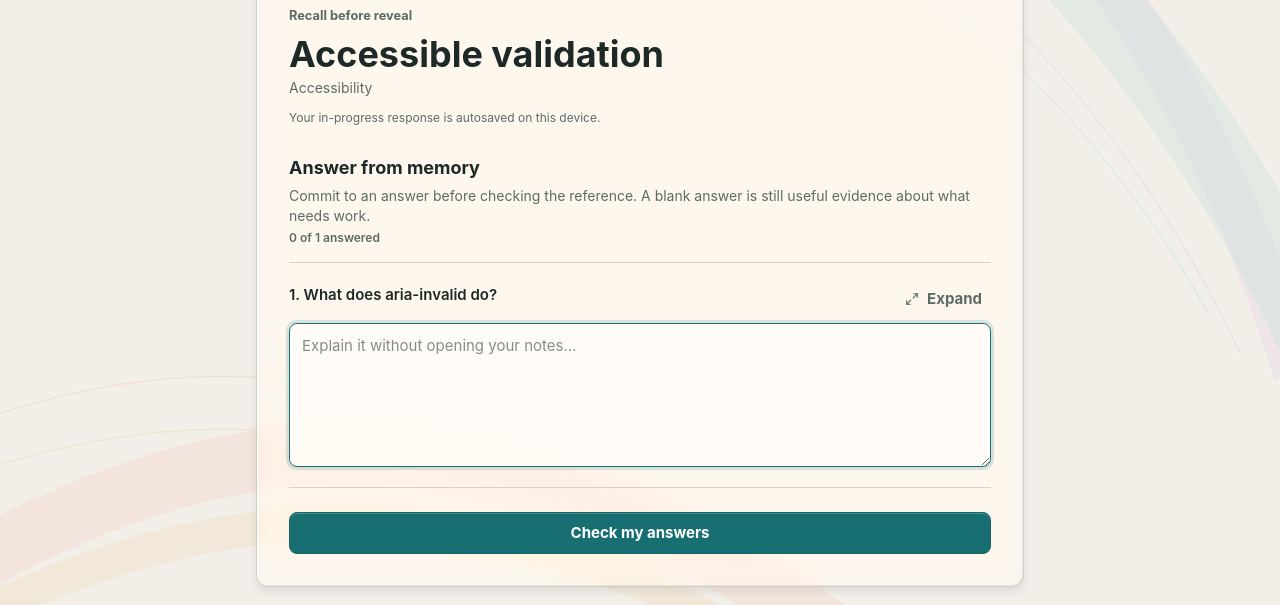
Test: ReviewSession structured recall › shows bounded progress while AI grading is in flight
Step 1. Click the button "Check my answers" → (640, 533), box [289,512,991,554]
(page scrolled)
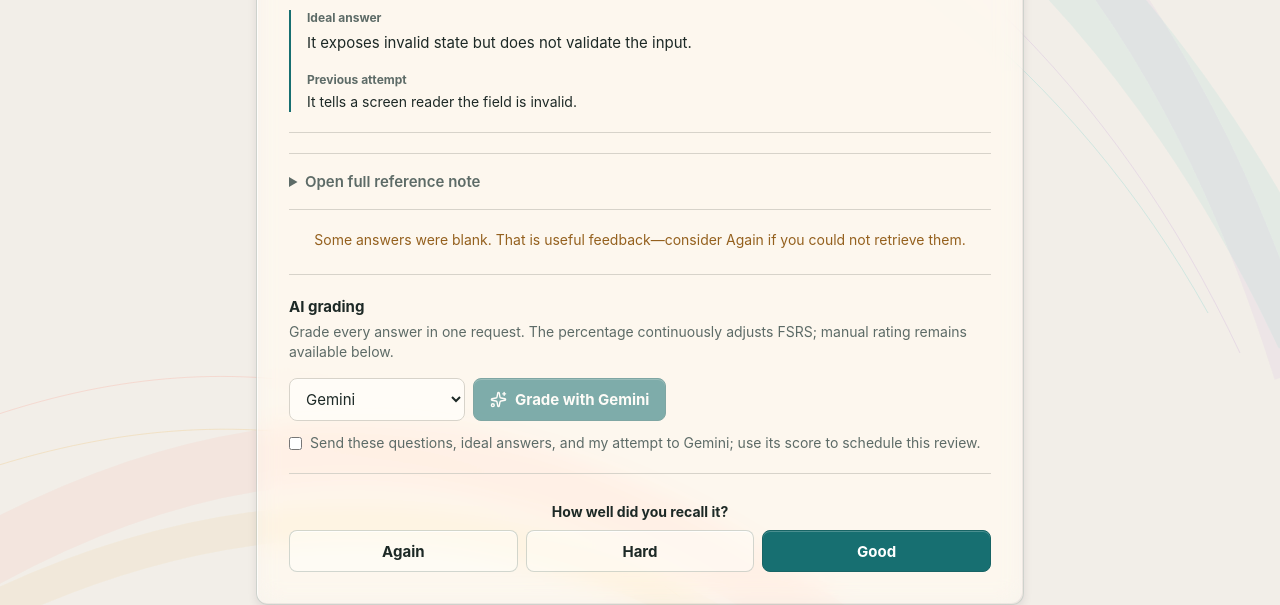
Step 2. Click the checkbox labelled "Send these questions, ideal answers" → (296, 444), box [289,437,302,450]
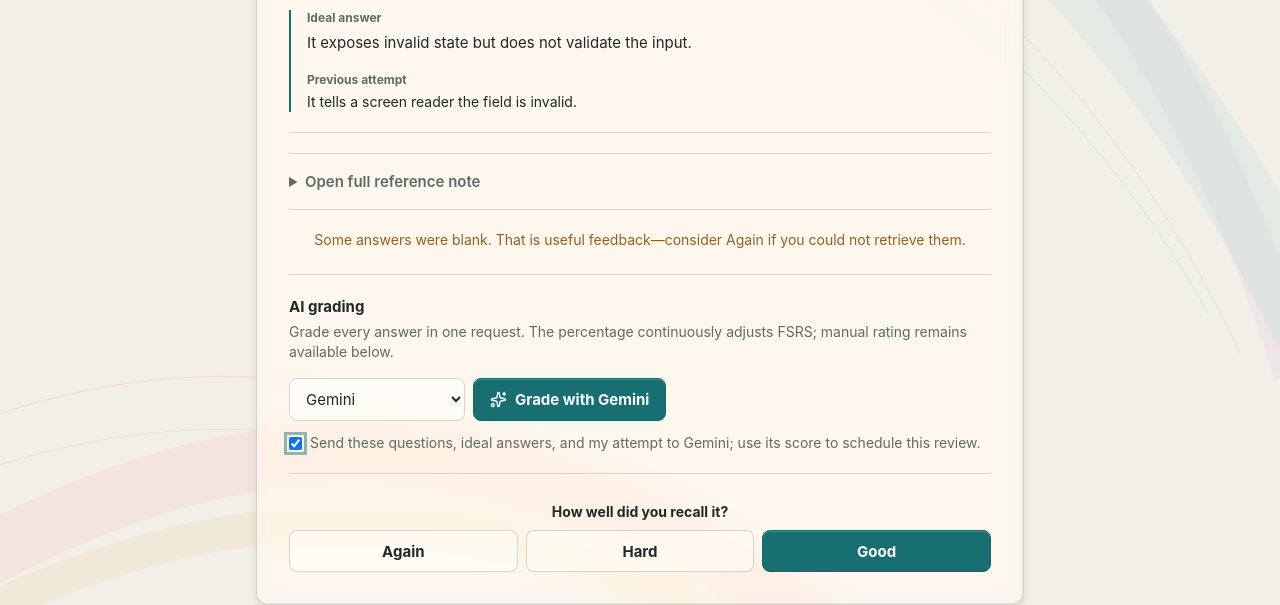
Step 3. Click the button "Grade with Gemini" → (570, 400), box [473,378,666,421]
(page scrolled)
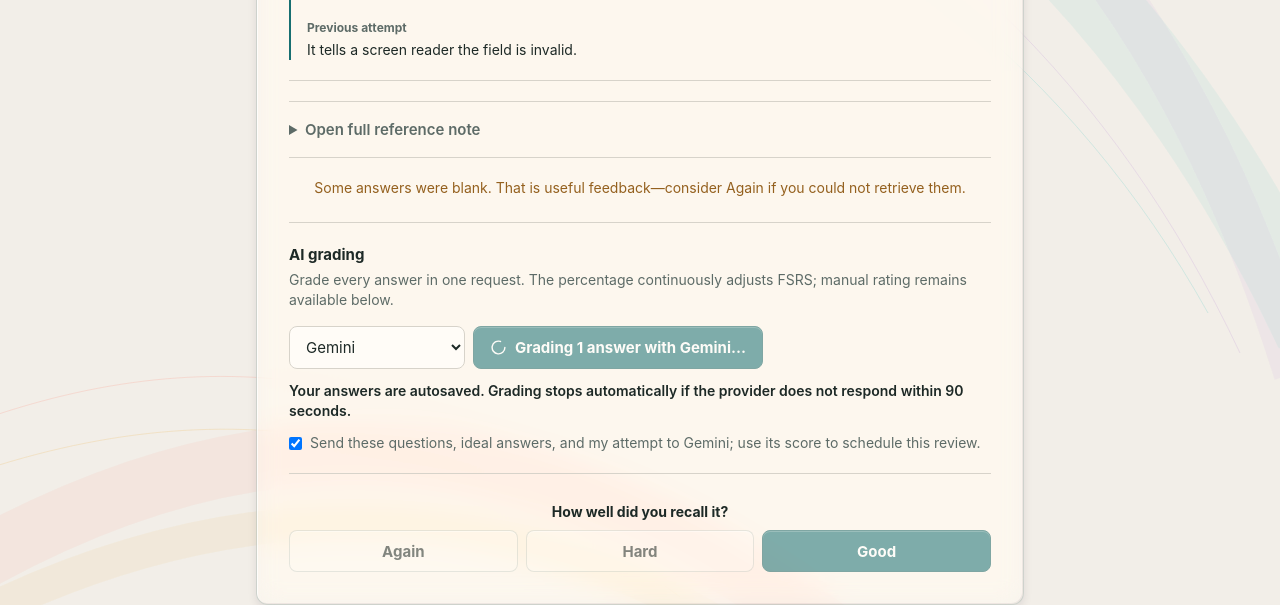
Expected: the button "Grading 1 answer with Gemini..." is disabled, [473,326,763,369]
Expected: the message shows "Grading stops automatically", [289,382,964,419]
Expected: the button "good" is disabled, [762,530,991,572]
